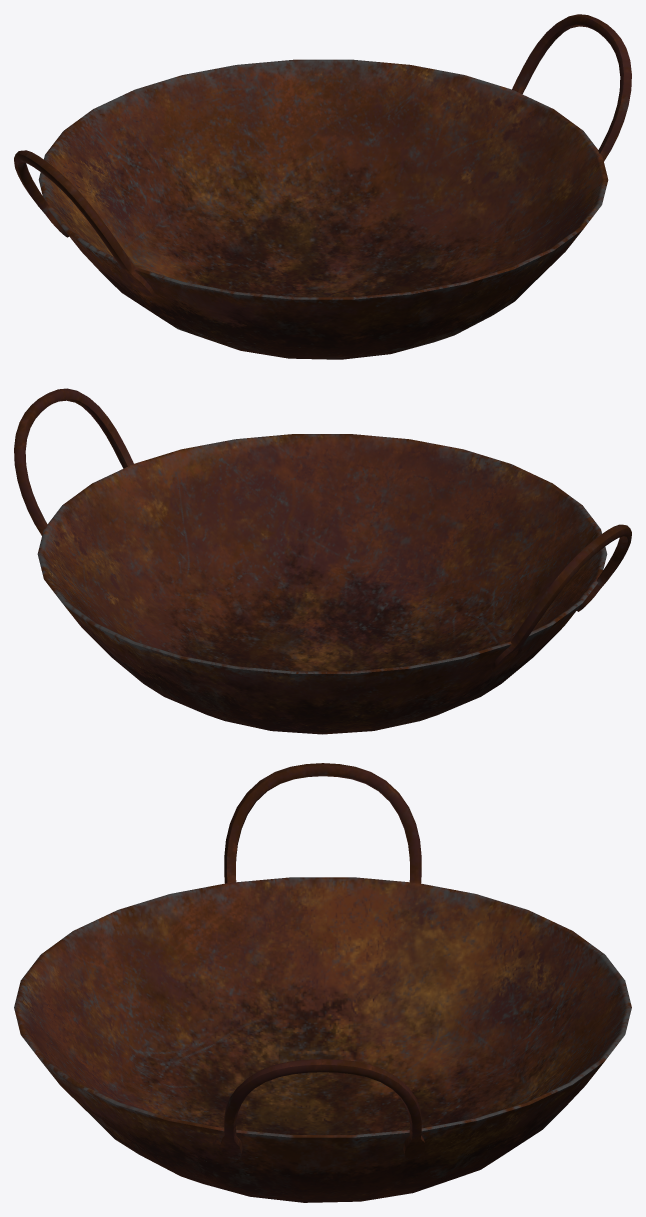
The model's file is M_Wok_01.FBX.
The picture shows the model from 3 angles, top to bottom: view 1: azimuth 30°, elevation 25°; view 2: azimuth 150°, elevation 25°; view 3: azimuth 270°, elevation 25°; orthographic projection. The views are drawn at different scales.
Parts seen in each view (by area): view 1: M_Wok_01; view 2: M_Wok_01; view 3: M_Wok_01.
Part boxes in pixels (left/top/right/bottom): M_Wok_01: left=14, top=14, right=631, bottom=359; M_Wok_01: left=14, top=388, right=631, bottom=734; M_Wok_01: left=14, top=763, right=631, bottom=1202.
Size of the model in its own units: 64.31 by 55.59 by 24.64.
